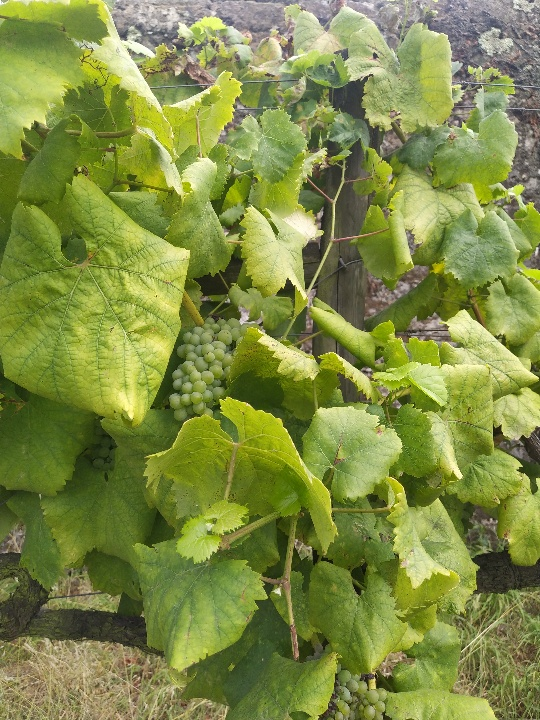grape: (167, 317, 241, 423)
